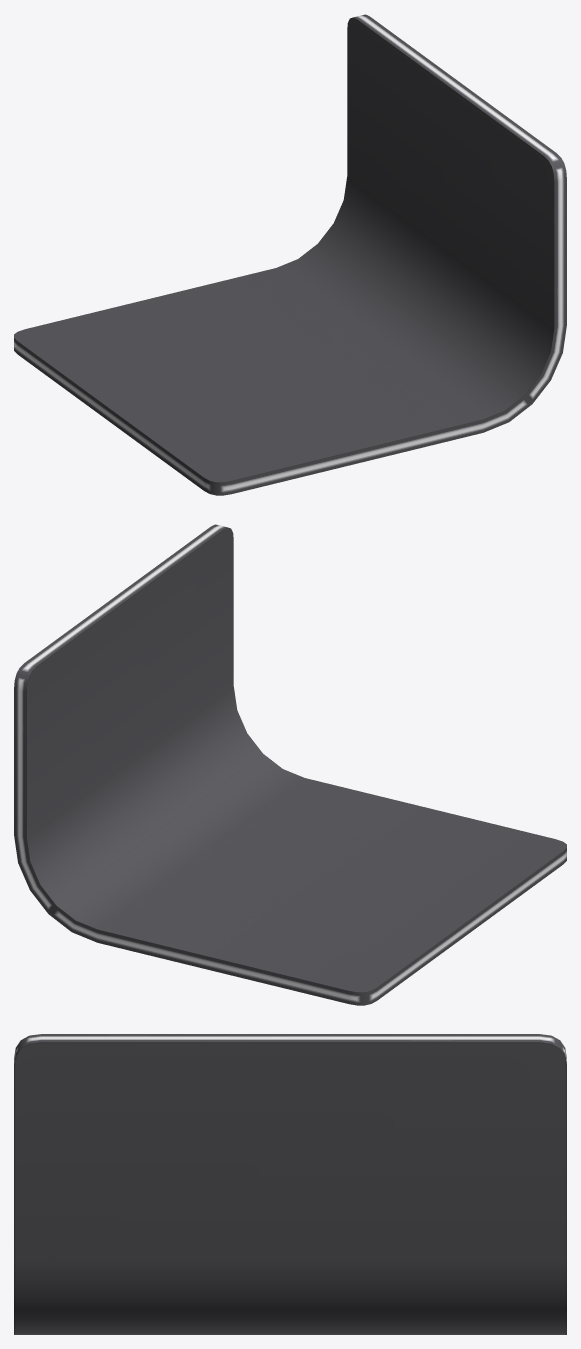
Rendered from Podium_07.FBX.
The picture shows the model from 3 angles, top to bottom: view 1: azimuth 30°, elevation 25°; view 2: azimuth 150°, elevation 25°; view 3: azimuth 270°, elevation 25°; orthographic projection. The views are drawn at different scales.
Parts seen in each view (by area): view 1: Podium_07; view 2: Podium_07; view 3: Podium_07.
Boxes of the visible parts, x1,y1,x2,y2 form: Podium_07: (14, 14, 566, 495); Podium_07: (14, 524, 566, 1005); Podium_07: (14, 1034, 566, 1334).
Bounding box in the file's own units: 3.93 × 2.68 × 4.
Materials: 1 (1 with a texture image).
